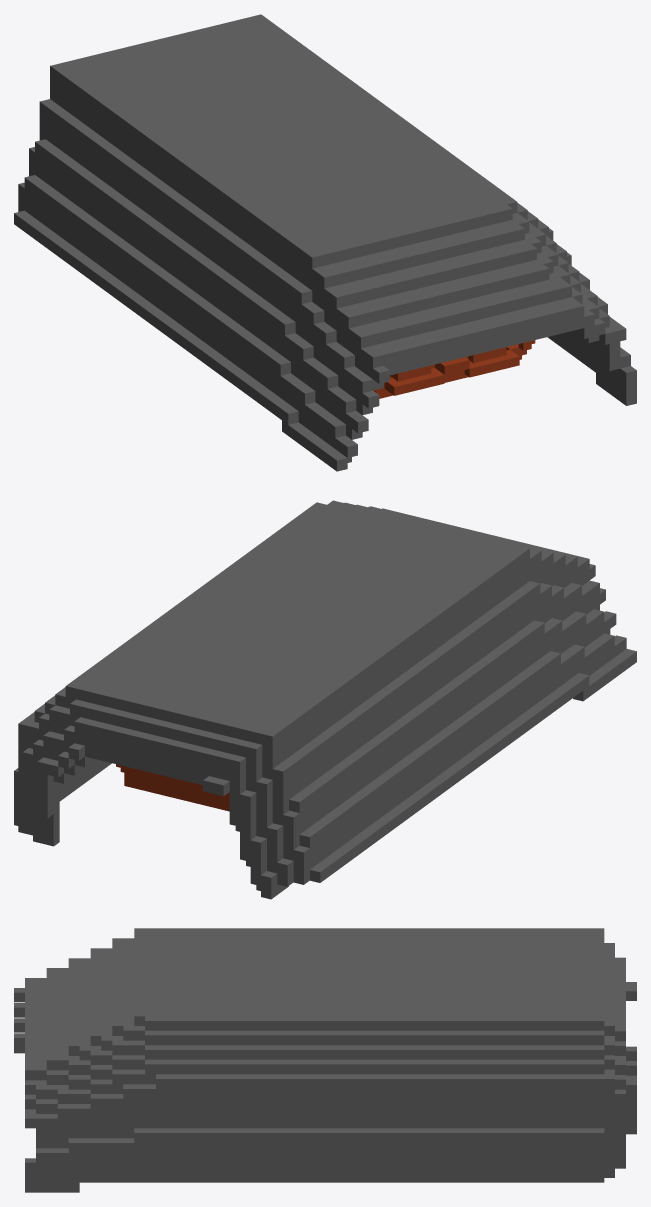
Rendered from Car.fbx.
3 views of the same model, one above another, from view 1: azimuth 30°, elevation 25°; view 2: azimuth 150°, elevation 25°; view 3: azimuth 270°, elevation 25° (orthographic). The views are drawn at different scales.
Visible parts, largest first — view 1: Car; view 2: Car; view 3: Car.
Boxes of the visible parts, x1,y1,x2,y2 form: Car: (14, 14, 636, 471); Car: (14, 500, 636, 899); Car: (14, 928, 636, 1192).
Bounding box in the file's own units: 626 × 324 × 1230.
